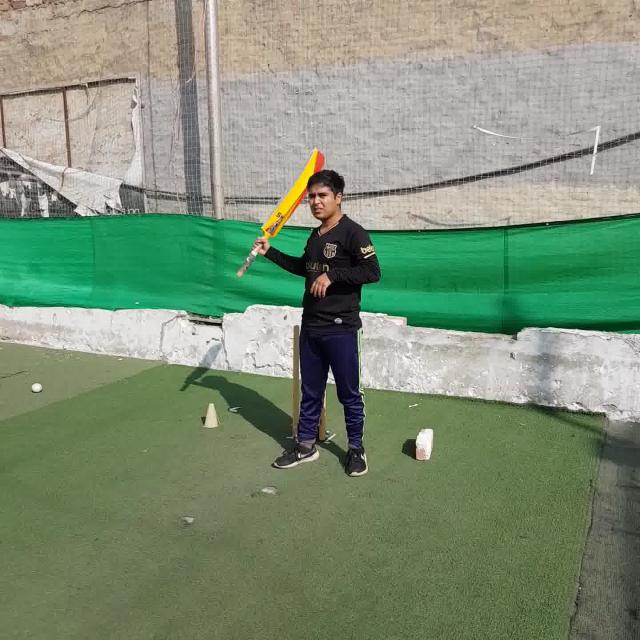bat: (236, 148, 326, 278)
